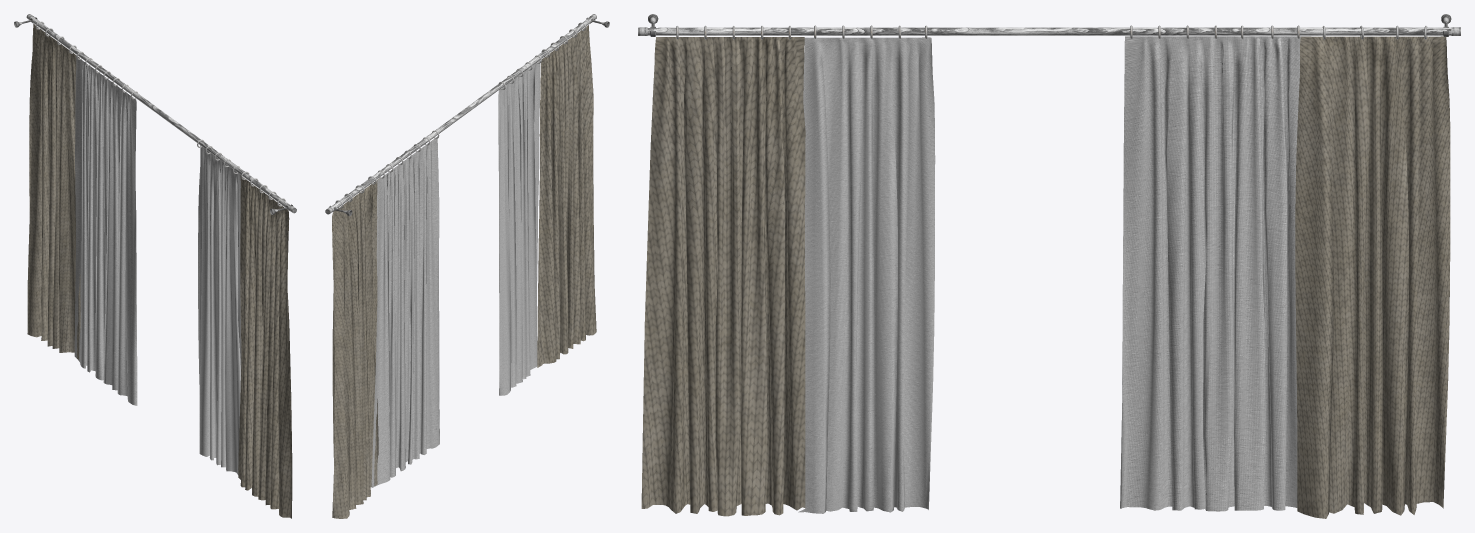
Rendered from SM_Curtains_A3.fbx.
The picture shows the model from 3 angles, left to right: view 1: azimuth 30°, elevation 25°; view 2: azimuth 150°, elevation 25°; view 3: azimuth 270°, elevation 25°; orthographic projection. The views are drawn at different scales.
Parts seen in each view (by area): view 1: SM_Curtains_A3; view 2: SM_Curtains_A3; view 3: SM_Curtains_A3.
Part boxes in pixels (x1,y1,x2,y2): SM_Curtains_A3: [14, 14, 296, 518]; SM_Curtains_A3: [325, 14, 609, 518]; SM_Curtains_A3: [638, 14, 1460, 518].
Bounding box in the file's own units: 24.24 × 351 × 228.
5 materials, 5 textured.
